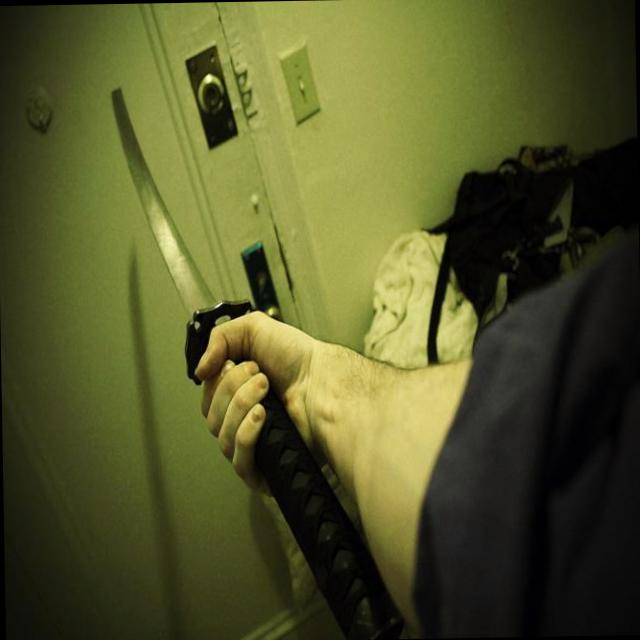Knife: (112, 90, 252, 383), (255, 388, 403, 640)
